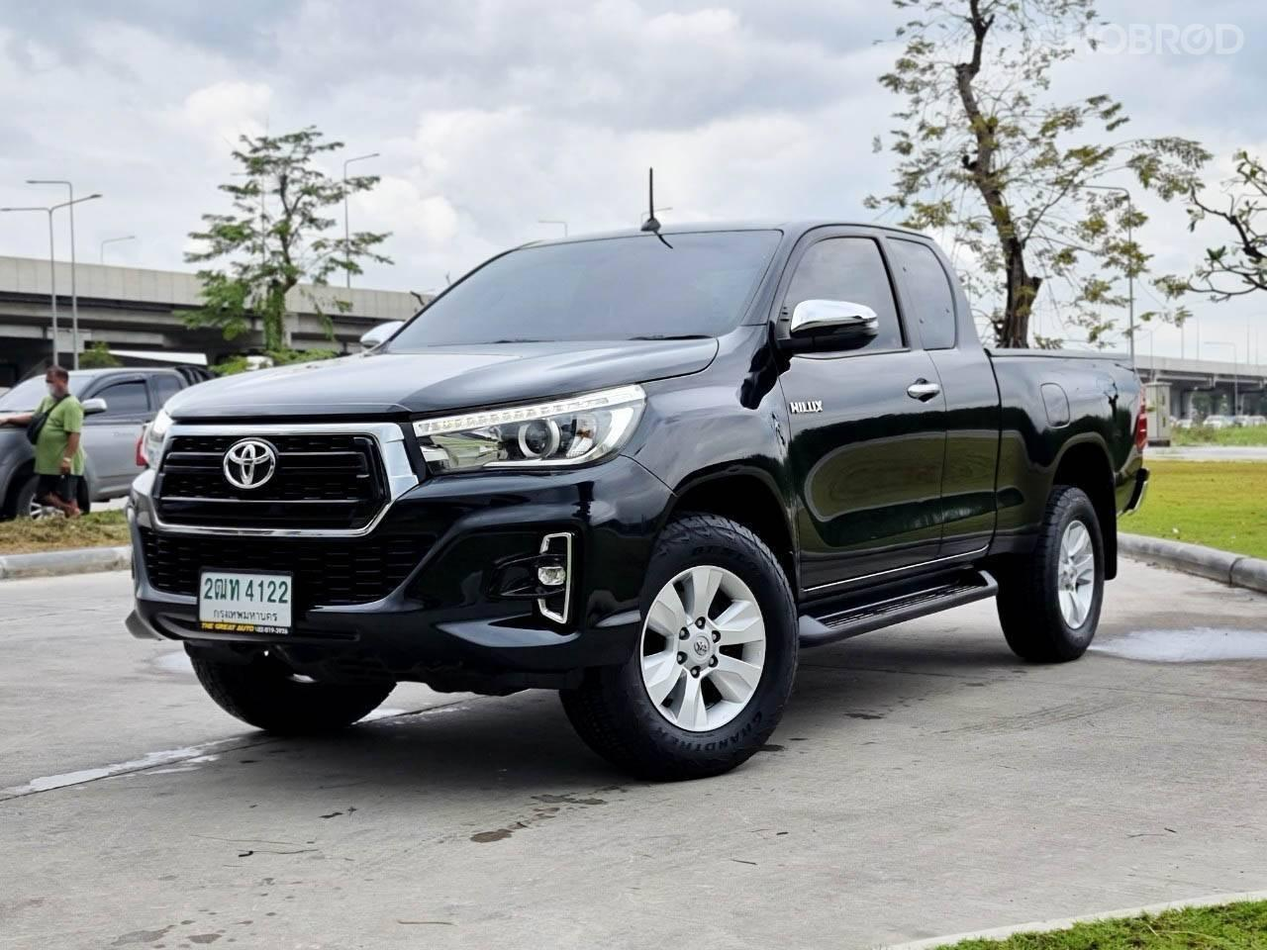license-plate: (186, 563, 307, 659)
